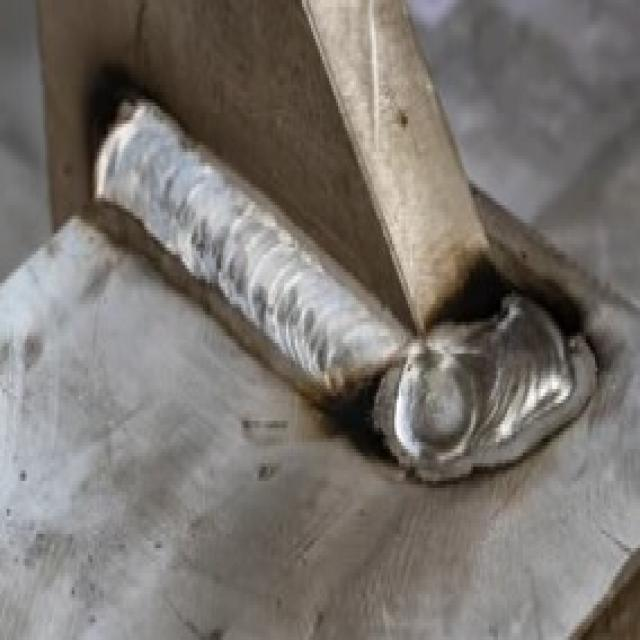Bad Weld: (380, 290, 590, 470)
Good Weld: (90, 95, 334, 375)
